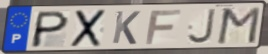F: (143, 8, 184, 46)
J: (185, 7, 217, 45)
K: (111, 9, 143, 46)
M: (215, 6, 263, 46)
P: (28, 9, 72, 49)
X: (68, 8, 108, 49)
